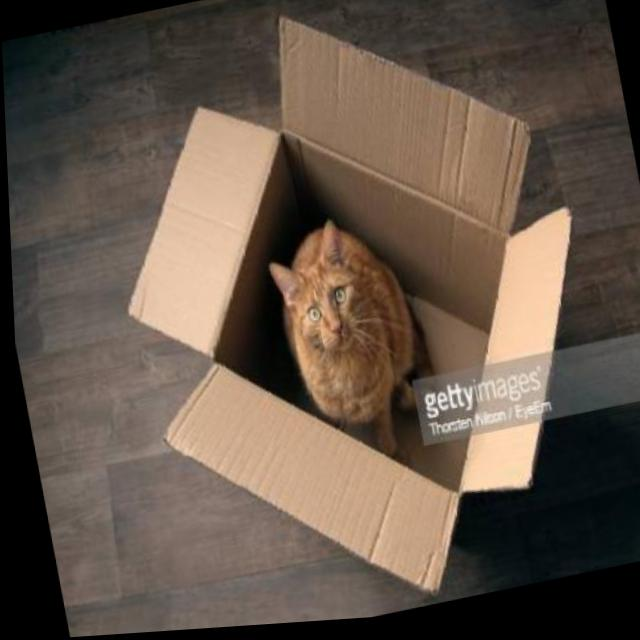box: (76, 0, 636, 636)
